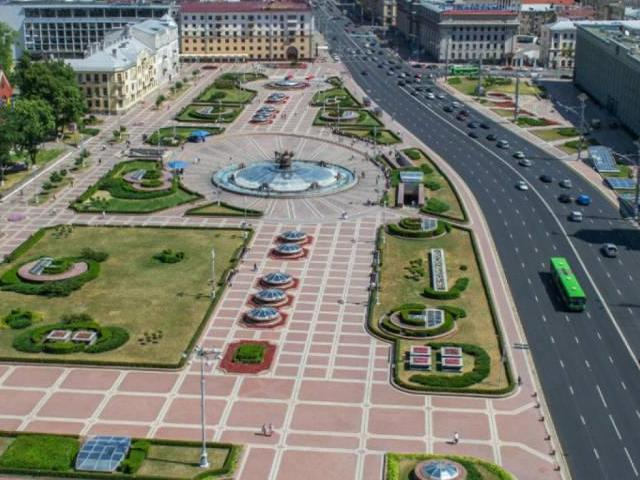bus: (544, 253, 590, 312)
